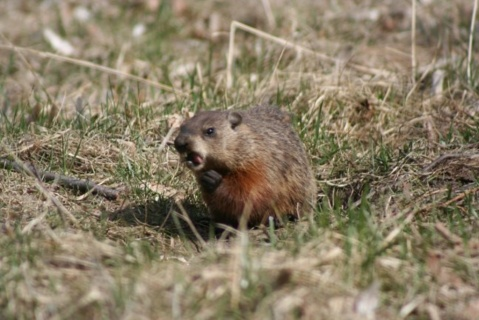Squirrel: (174, 107, 314, 227)
